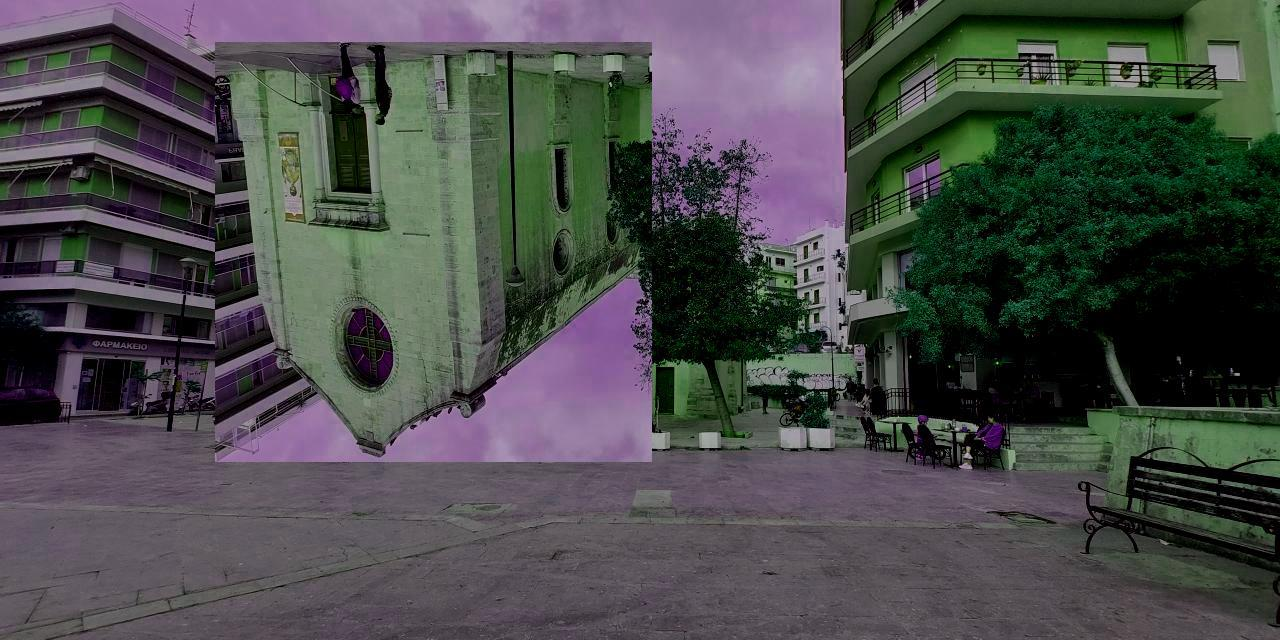Agia Aikaterini: (216, 43, 653, 463)
